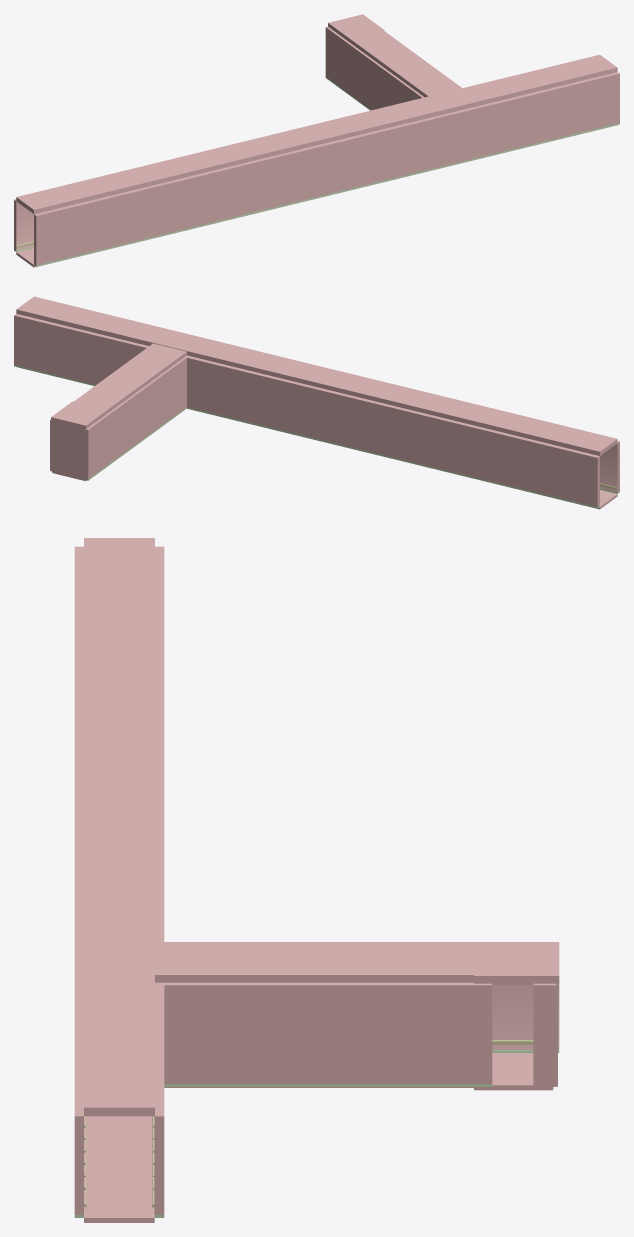
Rendered from outside_corridor.fbx.
The picture shows the model from 3 angles, top to bottom: view 1: azimuth 30°, elevation 25°; view 2: azimuth 150°, elevation 25°; view 3: azimuth 270°, elevation 25°; orthographic projection. The views are drawn at different scales.
Visible parts, largest first — view 1: Cylinder.158, Cylinder.015, Cylinder.005, Cylinder.006, Cylinder.010, ceiling.001, ceiling.005, ceiling.003, ceiling.002, ceiling.019, ceiling.004; view 2: Cylinder.015, Cylinder.005, Cylinder.158, Cylinder.006, Cylinder.010, ceiling.001, ceiling.005, ceiling.002, ceiling.003, ceiling.019, ground.005, ceiling.004; view 3: Cylinder.010, ceiling.019, ceiling.001, ceiling.003, ceiling.002, ceiling.005, ground.006, Cylinder.006, ceiling.004, Cylinder.158, Cylinder.005, Cylinder.015 (+2 smaller).
Boxes of the visible parts, x1,y1,x2,y2 form: Cylinder.158: (311, 105, 481, 199); Cylinder.015: (14, 180, 174, 266); Cylinder.005: (173, 147, 312, 232); Cylinder.006: (480, 72, 619, 157); Cylinder.010: (325, 26, 424, 110); ceiling.001: (293, 88, 479, 146); ceiling.005: (16, 163, 172, 214); ceiling.003: (462, 54, 617, 105); ceiling.002: (155, 129, 310, 180); ceiling.019: (349, 30, 461, 97); ceiling.004: (328, 14, 384, 41); Cylinder.015: (459, 422, 619, 508); Cylinder.005: (321, 388, 461, 474); Cylinder.158: (186, 355, 322, 440); Cylinder.006: (14, 314, 148, 385); Cylinder.010: (84, 355, 187, 480); ceiling.001: (154, 330, 340, 388); ceiling.005: (461, 405, 617, 455); ceiling.002: (323, 371, 478, 422); ceiling.003: (16, 296, 171, 345); ceiling.019: (73, 343, 186, 413); ground.005: (51, 422, 83, 479); ceiling.004: (51, 401, 107, 429); Cylinder.010: (155, 982, 559, 1086); ceiling.019: (155, 942, 473, 982); ceiling.001: (84, 808, 154, 972); ceiling.003: (84, 972, 154, 1116); ceiling.002: (84, 673, 154, 807); ceiling.005: (84, 538, 154, 672); ground.006: (84, 1116, 154, 1222); Cylinder.006: (74, 981, 164, 1217); ceiling.004: (474, 942, 559, 984); Cylinder.158: (74, 816, 164, 981); Cylinder.005: (74, 681, 164, 816); Cylinder.015: (74, 546, 164, 681).
Size of the model in its own units: 4941 by 467 by 1778.
